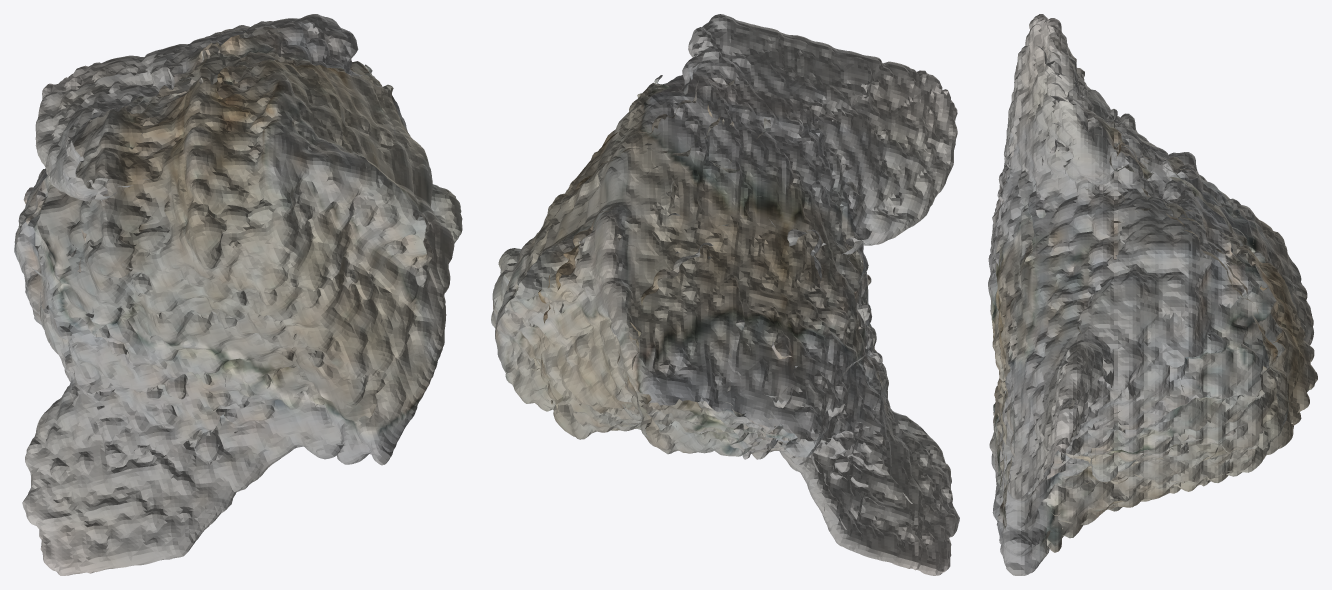
The picture shows the model from 3 angles, left to right: view 1: azimuth 30°, elevation 25°; view 2: azimuth 150°, elevation 25°; view 3: azimuth 270°, elevation 25°; orthographic projection. The views are drawn at different scales.
Parts seen in each view (by area): view 1: world; view 2: world; view 3: world.
Part boxes in pixels (x1=…): world: x1=14, y1=14, x2=462, y2=575; world: x1=491, y1=14, x2=959, y2=575; world: x1=988, y1=14, x2=1317, y2=575.
Bounding box in the file's own units: 0.9018 × 0.9791 × 0.6046.
